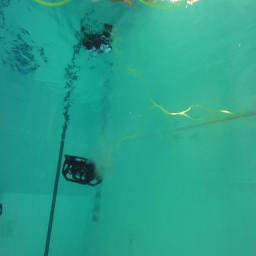Side: (61, 153, 103, 186)
